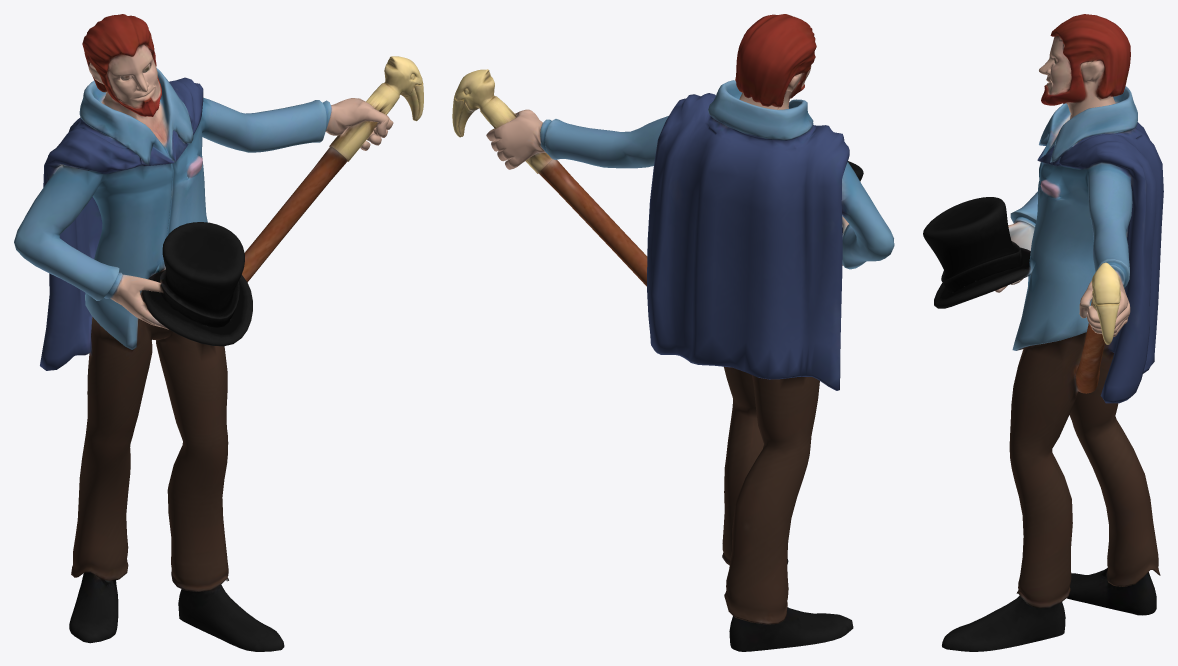
The model's file is MZ4250 - Renaer Neverember - Human Male.glb.
3 views of the same model, side by side, from view 1: azimuth 30°, elevation 25°; view 2: azimuth 150°, elevation 25°; view 3: azimuth 270°, elevation 25° (orthographic). The views are drawn at different scales.
Visible parts, largest first — view 1: default; view 2: default; view 3: default.
Boxes of the visible parts, x1=… form: default: x1=14, y1=14, x2=423, y2=651; default: x1=452, y1=14, x2=894, y2=651; default: x1=923, y1=14, x2=1163, y2=651.
Bounding box in the file's own units: 1.11 × 1.5 × 0.5583.
1 material, 1 textured.
